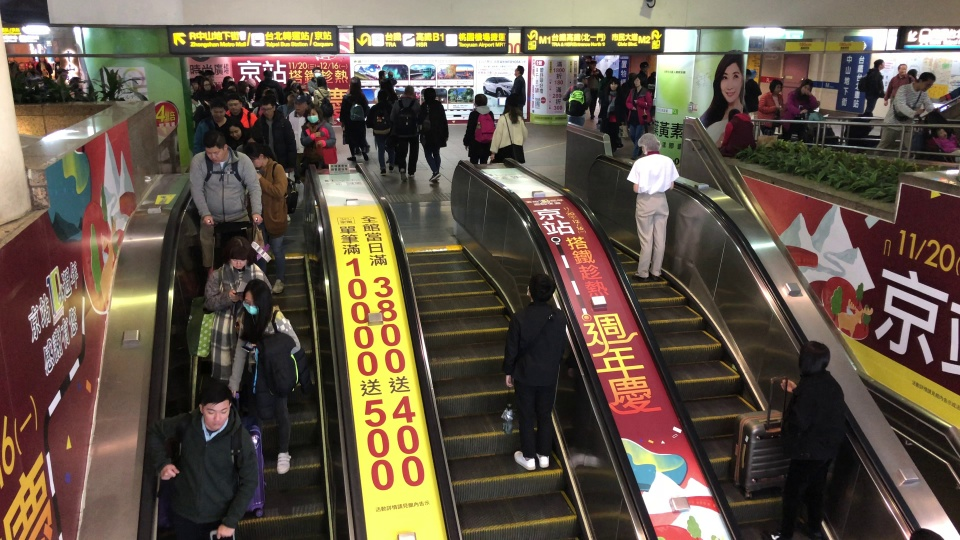person_head: (198, 378, 232, 431), (240, 278, 272, 316), (797, 340, 831, 374), (222, 236, 255, 269), (202, 130, 228, 165), (527, 273, 555, 302), (244, 141, 265, 169), (637, 132, 661, 155), (209, 96, 226, 121), (226, 117, 243, 141), (259, 95, 276, 119), (916, 71, 935, 92), (304, 103, 323, 123), (225, 92, 242, 114), (503, 93, 521, 113), (293, 94, 308, 113), (798, 78, 813, 95), (348, 76, 362, 94), (265, 88, 279, 105), (421, 87, 437, 101), (55, 68, 69, 83), (203, 89, 218, 103), (473, 93, 488, 107), (769, 78, 783, 93), (236, 80, 249, 94), (376, 88, 389, 102), (576, 72, 590, 85), (727, 108, 741, 121), (608, 76, 620, 91), (225, 80, 238, 93), (860, 110, 873, 123), (935, 126, 947, 140), (204, 69, 215, 84), (315, 75, 327, 88), (403, 85, 415, 98), (632, 74, 644, 87), (872, 59, 885, 71), (201, 77, 211, 92), (221, 75, 233, 87), (285, 78, 297, 90), (513, 65, 524, 77), (286, 91, 296, 104), (262, 69, 273, 80), (897, 63, 907, 75), (291, 83, 301, 94), (312, 67, 322, 78), (907, 68, 918, 78), (247, 77, 256, 89), (639, 61, 649, 71), (744, 68, 752, 80), (192, 78, 199, 91), (627, 71, 636, 81), (378, 69, 386, 79), (589, 59, 597, 69), (605, 67, 613, 77), (37, 54, 45, 63), (189, 83, 194, 95), (27, 61, 34, 69), (584, 55, 591, 62), (650, 70, 656, 78), (387, 71, 394, 77)
person_vbox: (144, 377, 259, 540), (768, 340, 846, 540), (227, 278, 301, 476), (501, 273, 566, 471), (188, 130, 263, 268), (203, 236, 272, 382), (626, 132, 679, 283), (243, 142, 289, 293), (250, 95, 298, 221), (872, 71, 940, 158), (389, 85, 422, 182), (417, 87, 449, 182), (489, 93, 528, 164), (339, 76, 370, 162), (299, 102, 337, 169), (191, 96, 232, 158), (624, 74, 653, 160), (779, 78, 818, 140), (369, 88, 396, 176), (462, 93, 495, 164), (598, 77, 626, 154), (284, 94, 308, 178), (717, 108, 756, 158), (561, 72, 591, 127), (756, 78, 784, 136), (883, 63, 916, 108), (843, 111, 881, 150), (224, 92, 258, 128), (864, 59, 886, 112), (312, 75, 335, 125), (584, 60, 603, 120), (255, 68, 286, 103), (509, 65, 526, 126), (194, 89, 218, 131), (932, 126, 960, 162), (222, 117, 252, 150), (744, 68, 759, 125), (597, 67, 613, 112), (377, 70, 398, 100), (276, 91, 297, 117), (34, 54, 53, 80), (51, 67, 70, 92), (307, 67, 323, 96), (290, 83, 311, 104), (636, 60, 650, 89), (203, 70, 221, 92), (188, 83, 200, 115), (25, 61, 41, 84), (620, 71, 636, 94), (236, 80, 249, 106), (247, 77, 257, 101), (646, 70, 656, 92), (385, 70, 396, 89)
